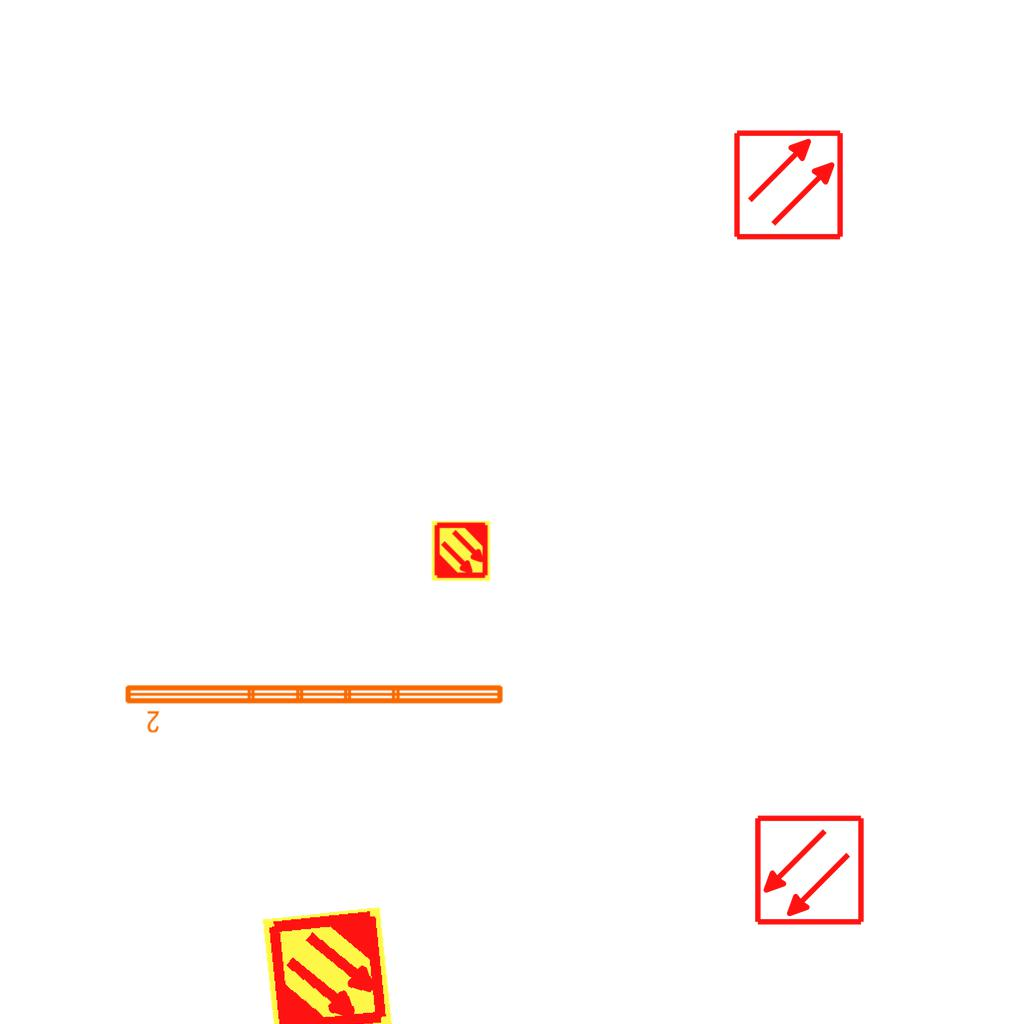ASR_Ansaugrauchmelder: (258, 904, 397, 1024), (430, 520, 492, 582)
Ambulanz_Pendelleuchte_LED: (121, 679, 508, 735)
RMO_Rauchmelder_optischer: (732, 128, 845, 241), (753, 814, 866, 927)
